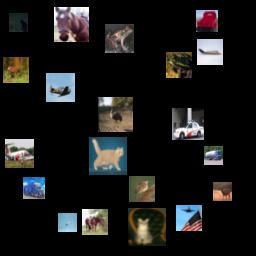airplane: (46, 73, 75, 102), (5, 139, 34, 168), (176, 205, 202, 231), (197, 39, 223, 65)
automobile: (172, 108, 204, 140)
bird: (98, 97, 133, 132), (129, 176, 155, 202), (58, 213, 77, 232)
cat: (89, 137, 127, 175), (128, 208, 166, 246), (9, 13, 28, 32)
deer: (3, 57, 29, 83), (213, 182, 232, 201)
frog: (105, 24, 134, 53), (166, 52, 192, 78)
truck: (23, 177, 45, 199), (196, 10, 218, 32), (204, 146, 223, 165)
